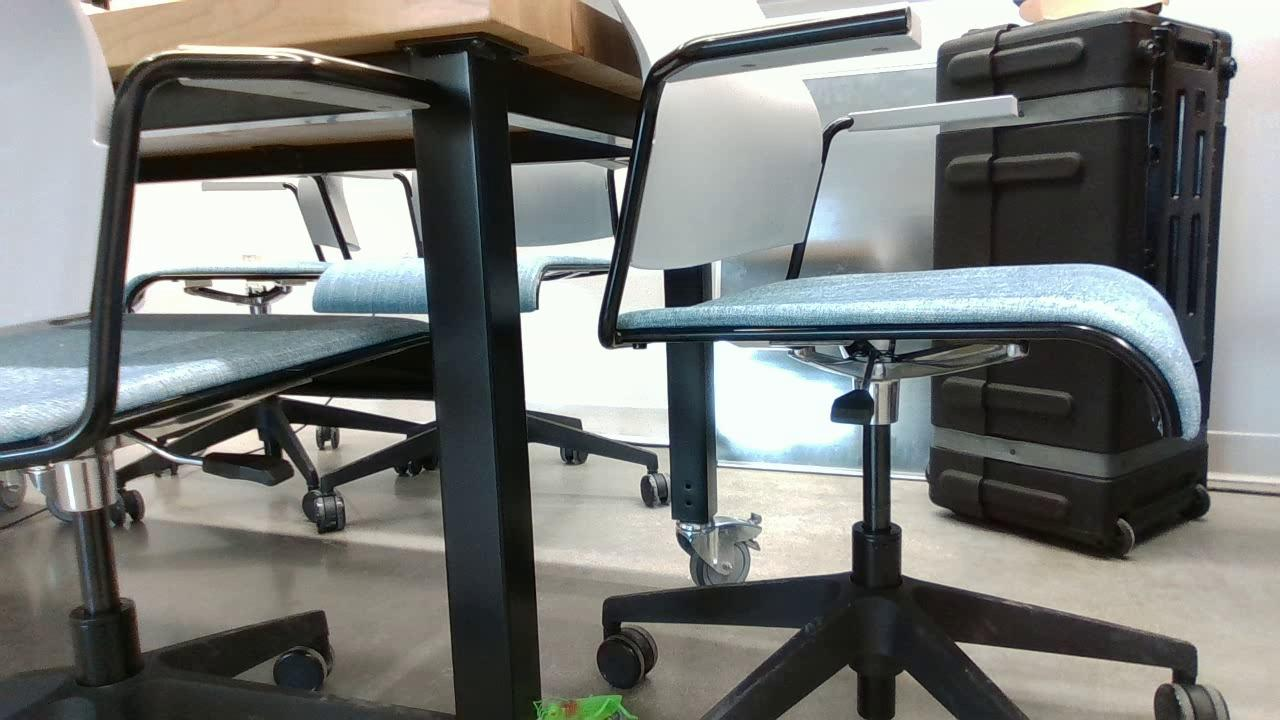grasshopper: (529, 697, 642, 720)
